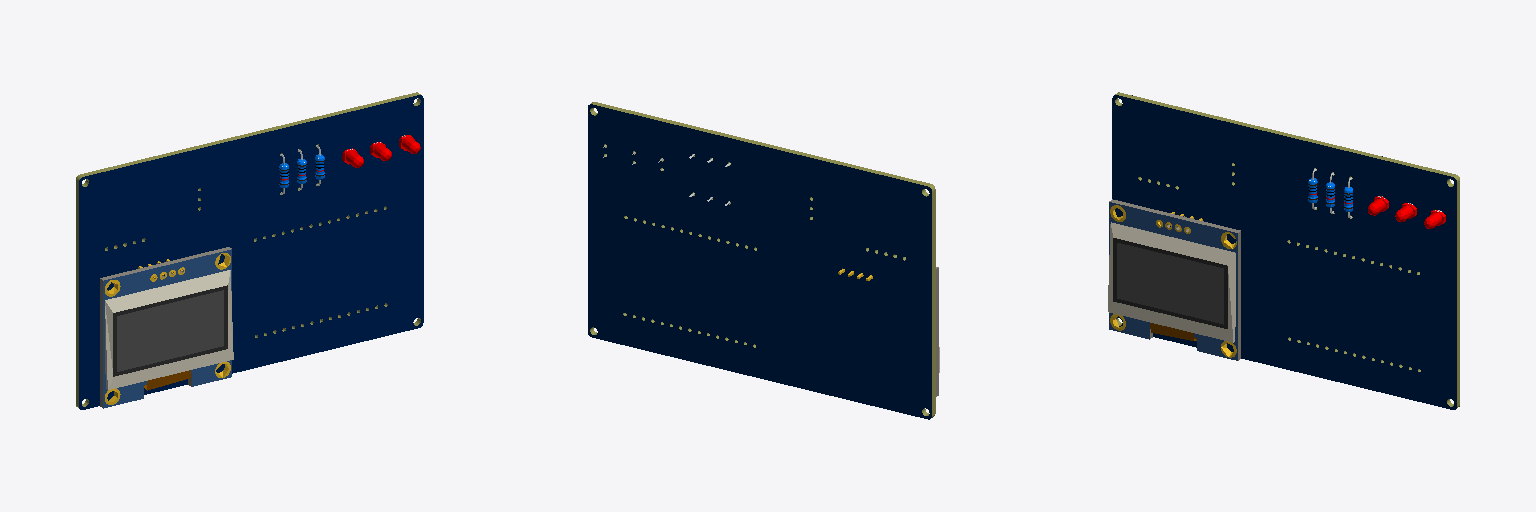
The model's file is PCB-Design.obj.
3 views of the same model, side by side, from view 1: azimuth 30°, elevation 25°; view 2: azimuth 150°, elevation 25°; view 3: azimuth 330°, elevation 25° (orthographic).
Size of the model in its own units: 94.46 by 61.06 by 11.5.